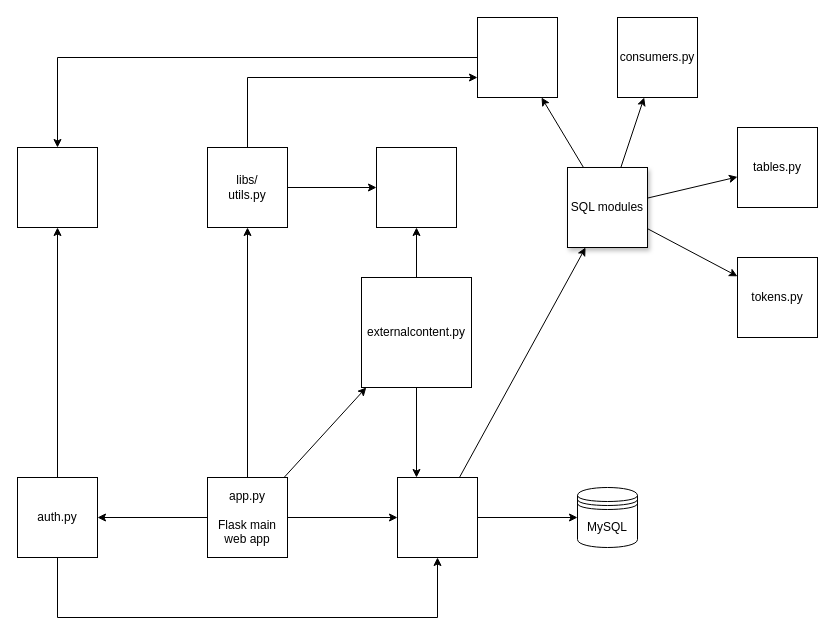
The diagram is 835 pixels wide and 643 high, and some of its shapes have lost their labels. The centre of each missing label's shape, as x and y in pixels:
consumer.py: pixel 416 187
db.py: pixel 437 517
libs/ crypto.py: pixel 57 187
users.py: pixel 517 57
